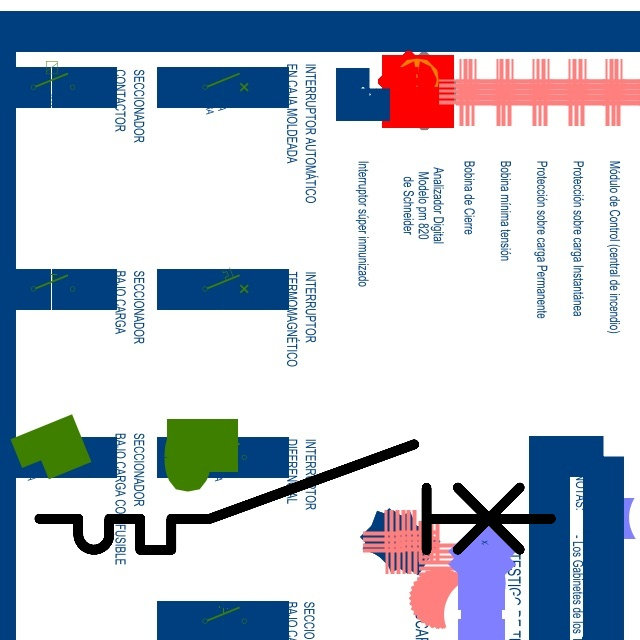interruptor_termomagnetico: (26, 431, 564, 563)
